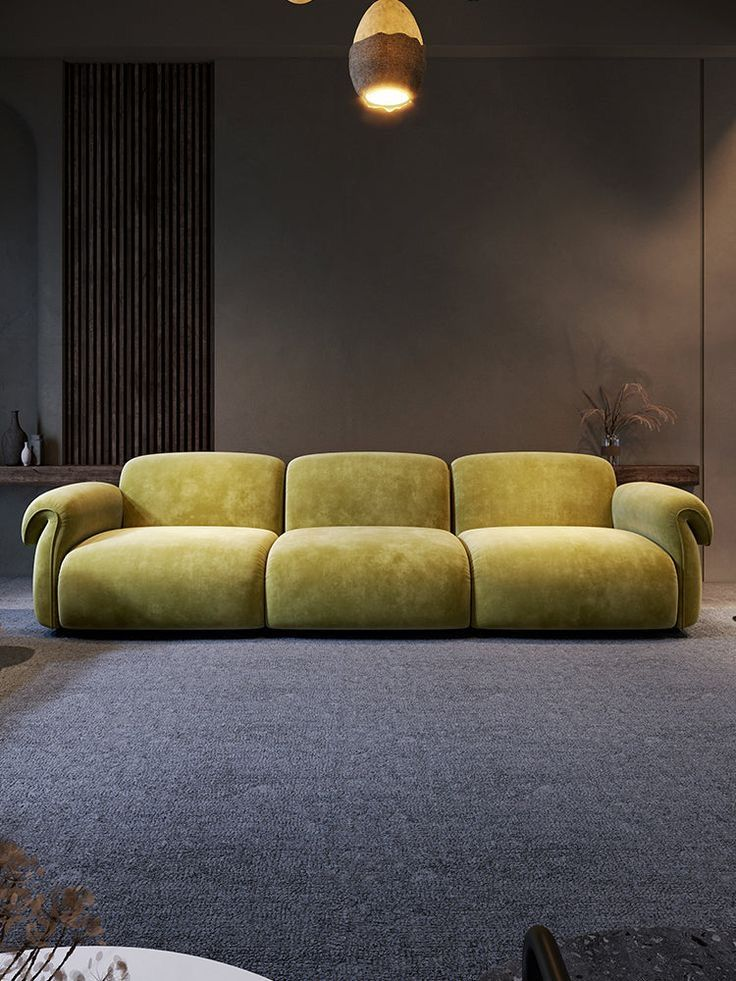3seatersofa: (22, 452, 712, 631)
backrest: (120, 452, 615, 532)
leftarmrest: (614, 482, 712, 626)
rightarmrest: (22, 482, 121, 626)
seat: (37, 527, 678, 630)
